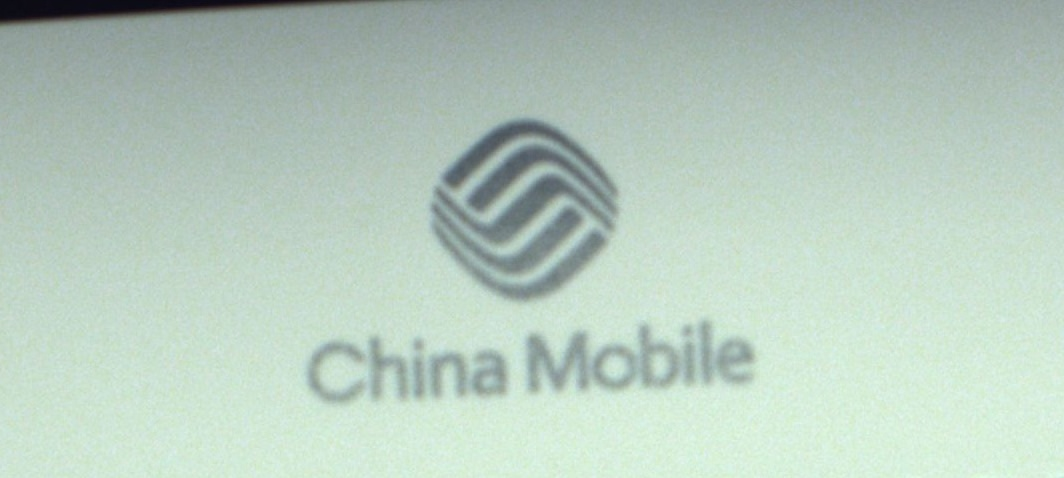AA_ChinaMobile: (293, 111, 762, 411)
